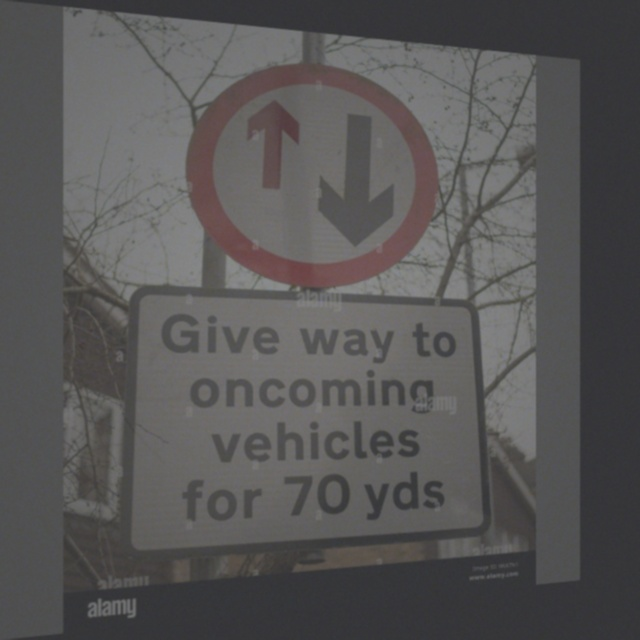Priority_for_Oncoming_Traffic: (187, 51, 440, 286)
